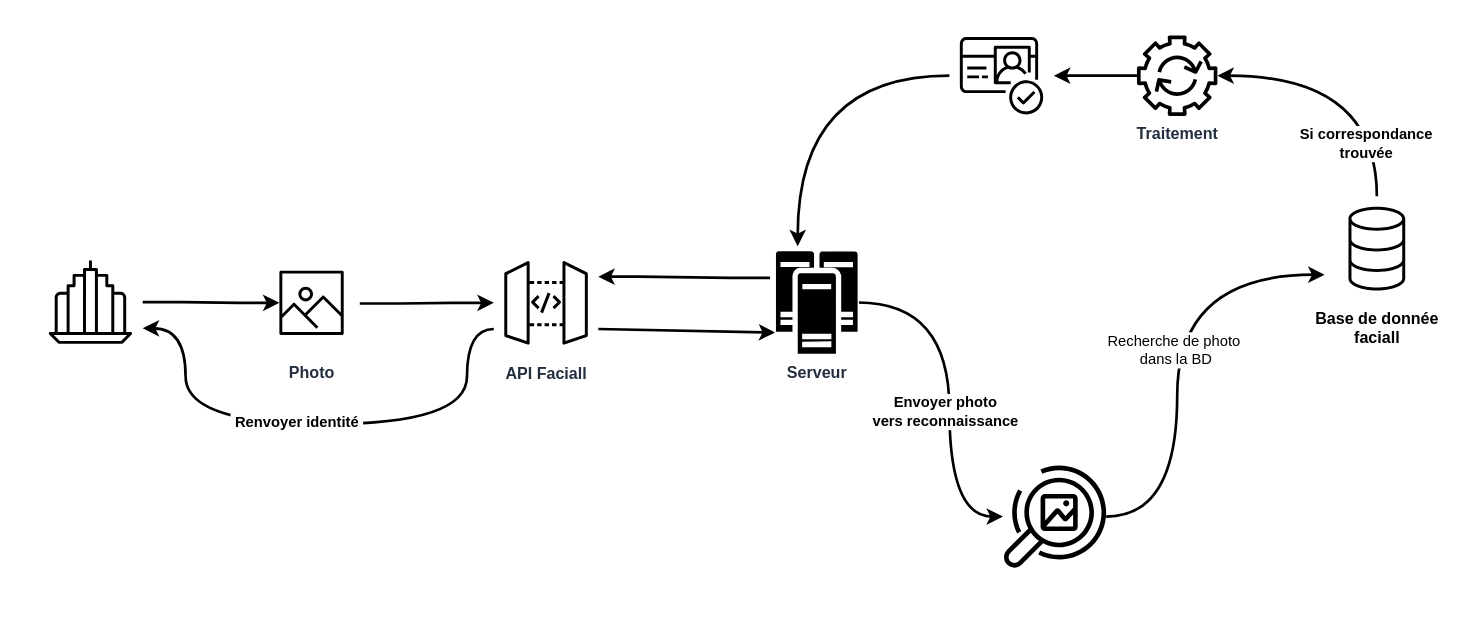
Image size: 1462x641. Some labels were removed from this diagram. The shapes that lost their labels are listed below. From the top down, each one's box as (x1, y1, x2, y2) in pixels, then its label:
(948, 22, 1054, 128): Identité (photo)
(37, 249, 143, 354): Entreprise cliente
(1002, 464, 1106, 568): Recconaissance d'image
